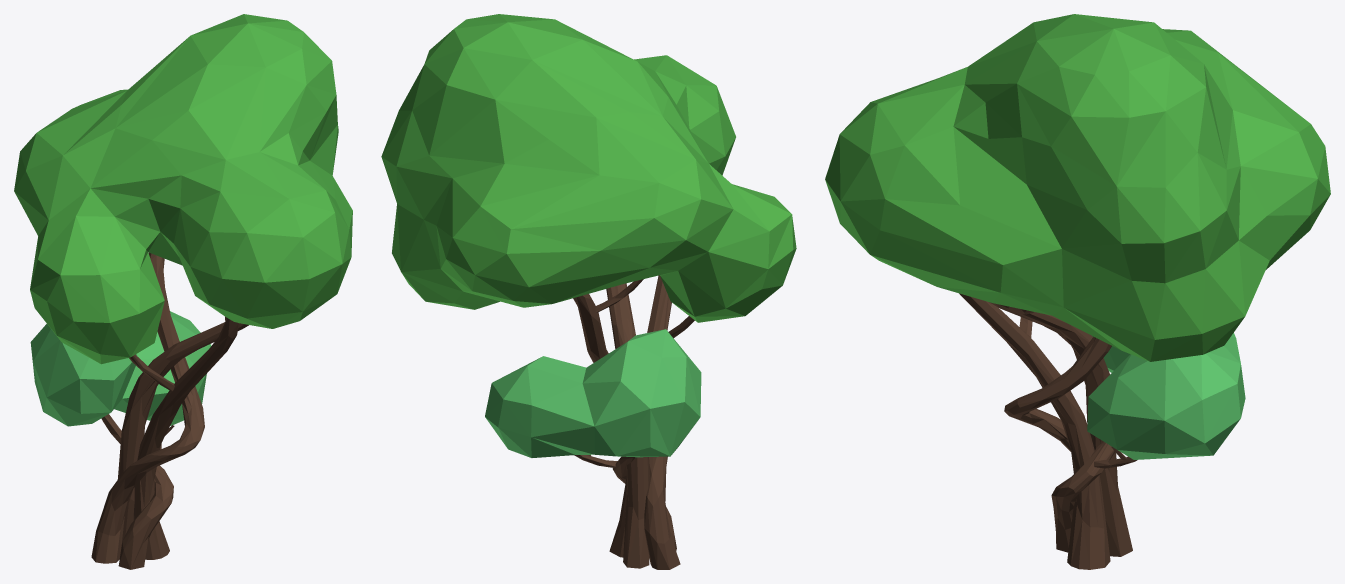
Rendered from tree9.fbx.
The picture shows the model from 3 angles, left to right: view 1: azimuth 30°, elevation 25°; view 2: azimuth 150°, elevation 25°; view 3: azimuth 270°, elevation 25°; orthographic projection. The views are drawn at different scales.
Visible parts, largest first — view 1: tree9_leaves, tree9_trunk; view 2: tree9_leaves, tree9_trunk; view 3: tree9_leaves, tree9_trunk.
Boxes of the visible parts, x1=… form: tree9_leaves: x1=14, y1=14, x2=352, y2=426; tree9_trunk: x1=91, y1=252, x2=248, y2=569; tree9_leaves: x1=381, y1=14, x2=796, y2=457; tree9_trunk: x1=573, y1=275, x2=694, y2=569; tree9_leaves: x1=825, y1=14, x2=1330, y2=459; tree9_trunk: x1=959, y1=293, x2=1137, y2=569.
Size of the model in its own units: 5.17 by 7.27 by 5.59.
